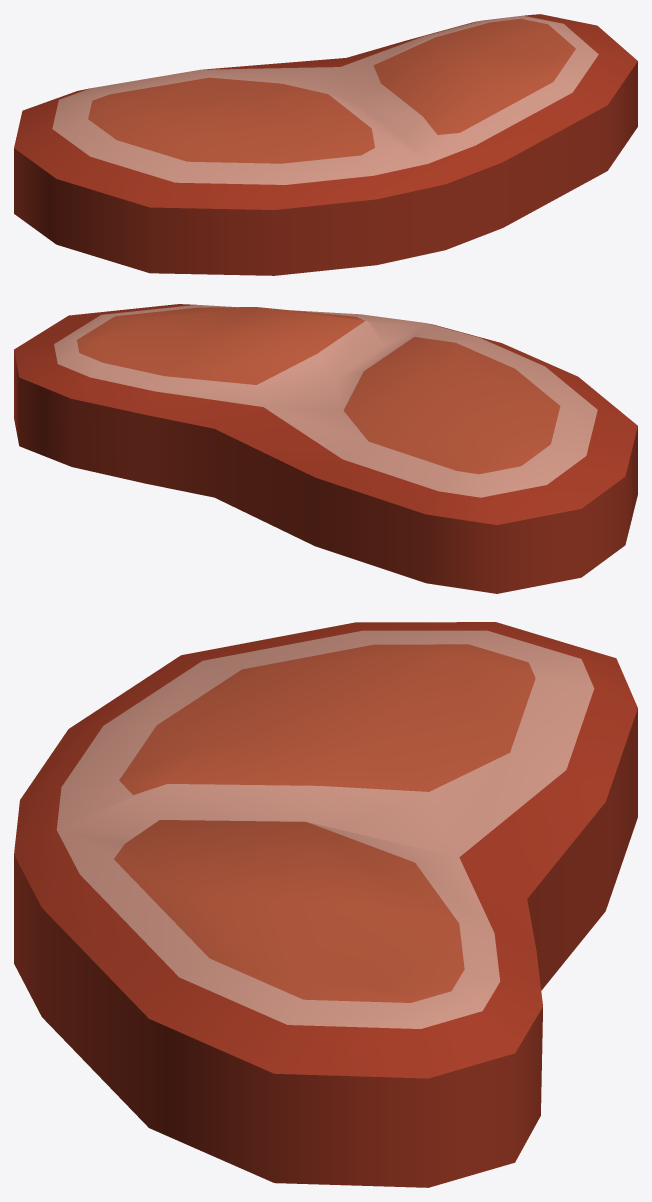
The model's file is daging.fbx.
3 renders of one model, top to bottom at view 1: azimuth 30°, elevation 25°; view 2: azimuth 150°, elevation 25°; view 3: azimuth 270°, elevation 25°, orthographic. The views are drawn at different scales.
Parts seen in each view (by area): view 1: daging; view 2: daging; view 3: daging.
Part boxes in pixels (x1,y1,x2,y2): daging: (14, 14, 637, 275); daging: (14, 304, 637, 593); daging: (14, 622, 637, 1187).
Size of the model in its own units: 31.76 by 5.21 by 18.35.
